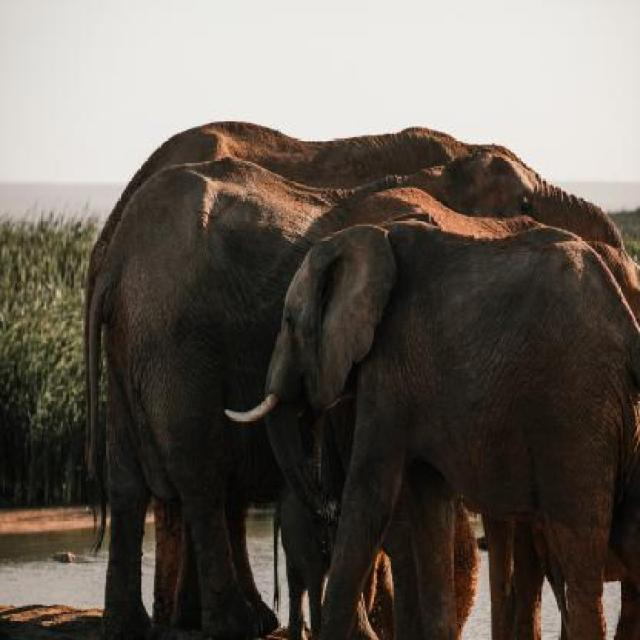Elephant: (224, 214, 640, 639)
